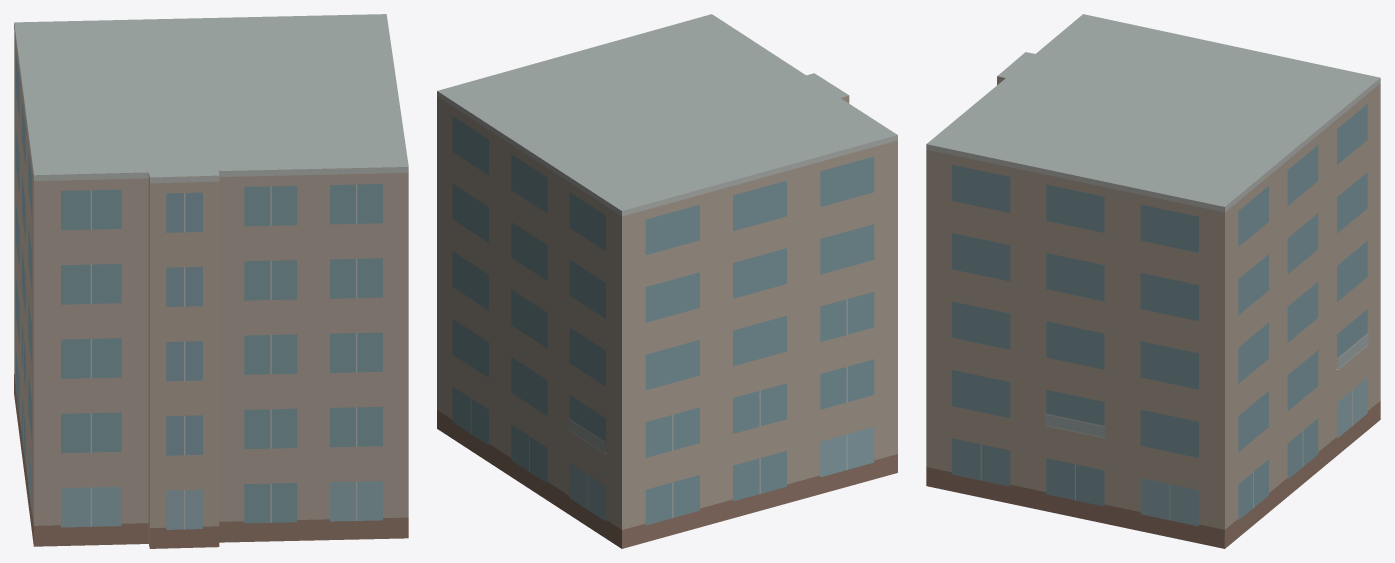
Rendered from survey-upis-32934674.glb.
3 renders of one model, left to right at view 1: azimuth 30°, elevation 25°; view 2: azimuth 150°, elevation 25°; view 3: azimuth 270°, elevation 25°, orthographic. The views are drawn at different scales.
Visible parts, largest first — view 1: survey-upis-32934674.tmp; view 2: survey-upis-32934674.tmp; view 3: survey-upis-32934674.tmp.
Part boxes in pixels (x1,y1,x2,y2): survey-upis-32934674.tmp: (14,14,408,548); survey-upis-32934674.tmp: (437,14,897,548); survey-upis-32934674.tmp: (926,14,1380,548).
Size of the model in its own units: 18.47 by 15.25 by 18.37.
